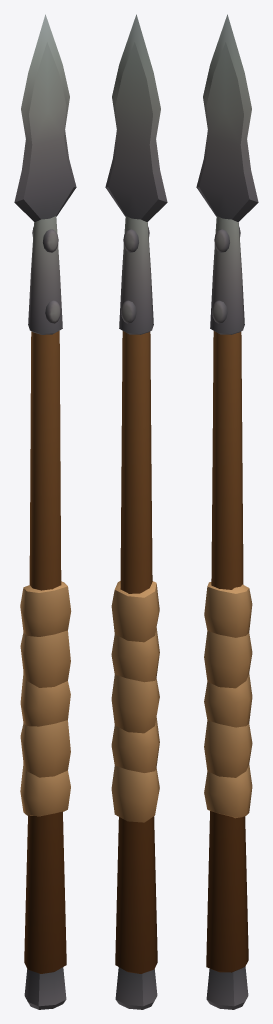
Rendered from spear.glb.
3 renders of one model, left to right at view 1: azimuth 30°, elevation 25°; view 2: azimuth 150°, elevation 25°; view 3: azimuth 330°, elevation 25°, orthographic.
Visible parts, largest first — view 1: Spear_05; view 2: Spear_05; view 3: Spear_05.
Part boxes in pixels (box(x1,y1,x2,y2)): Spear_05: box(14, 14, 76, 1009); Spear_05: box(105, 14, 167, 1009); Spear_05: box(196, 14, 258, 1009).
Size of the model in its own units: 0.1711 by 2.6 by 0.1002.
Materials: 1 (1 with a texture image).
